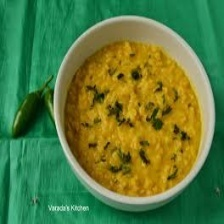dal: (59, 37, 203, 200)
